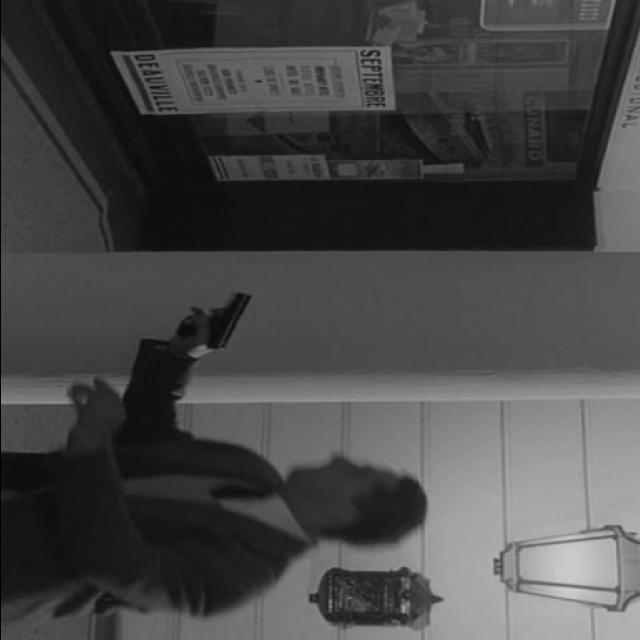weapons: (148, 280, 266, 363)
